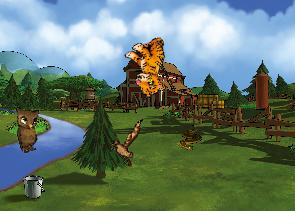eagle: (107, 119, 146, 168)
owl: (10, 102, 49, 154)
tiger: (118, 31, 183, 100)
